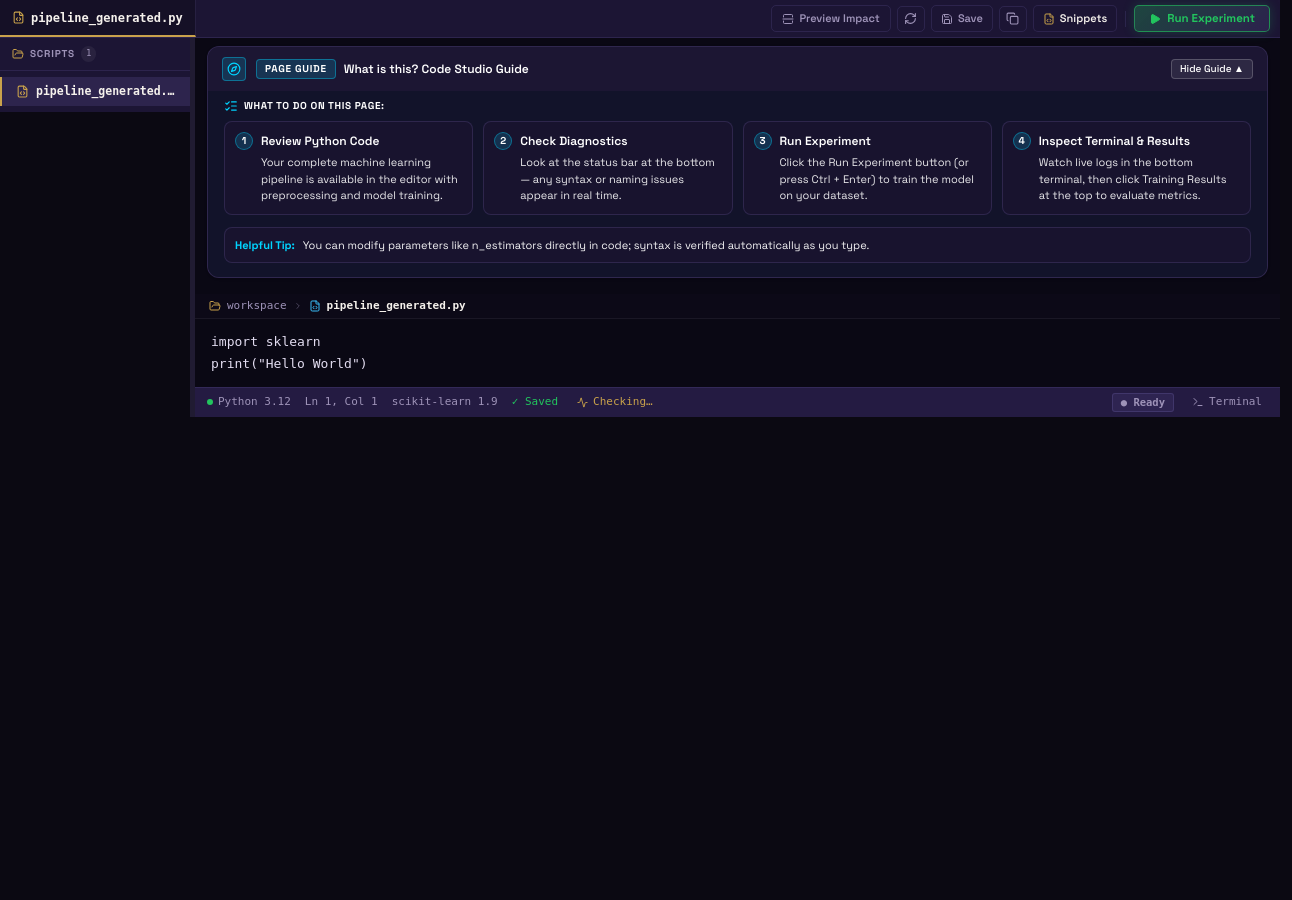
Test: Phase 3: Execution Sandbox & Output Streaming Integration › handles queued execution state and renders queue badge
Click the button with aria-label "run code" at (1202, 19), box [1134, 5, 1270, 32]
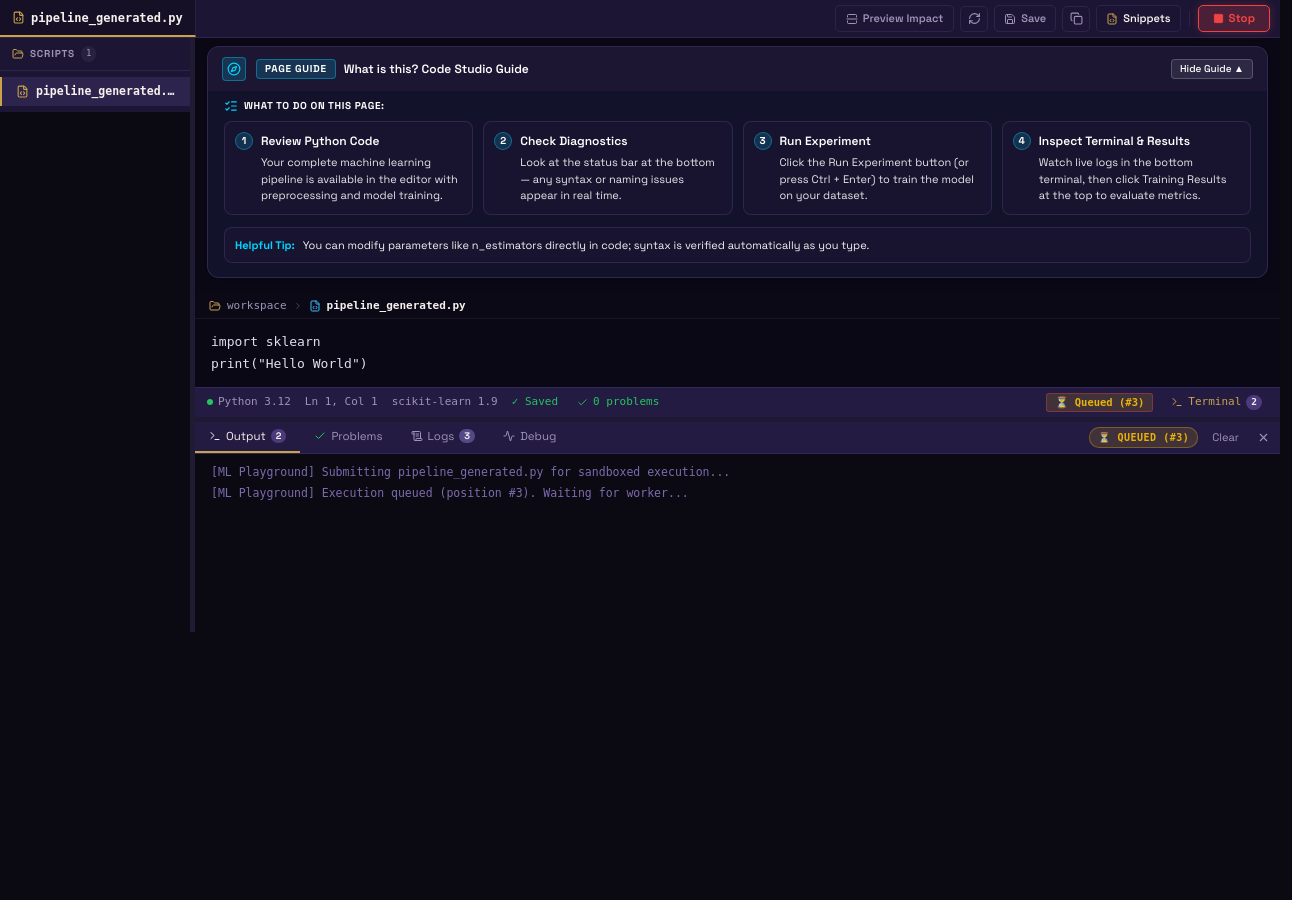
Check: the text "⏳ Queued (#3)" is shown, box [1046, 392, 1153, 412]
